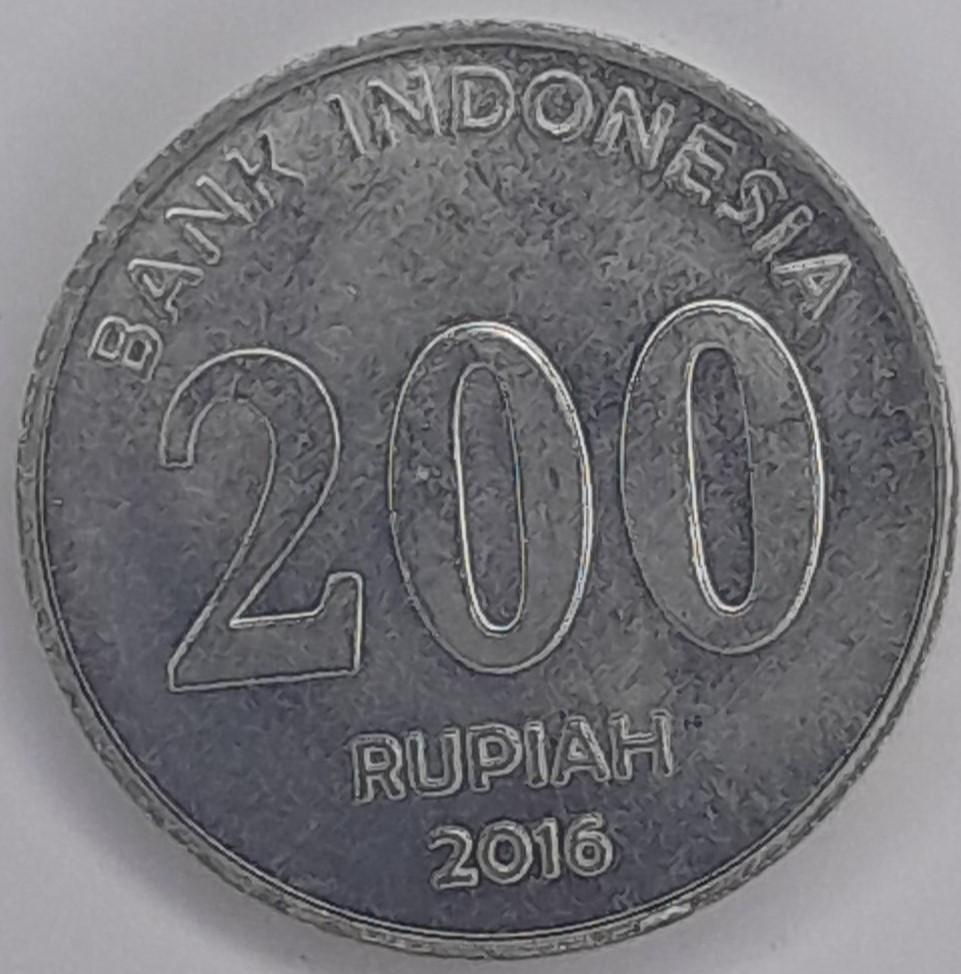coin_200_e2016: (0, 17, 961, 974)
